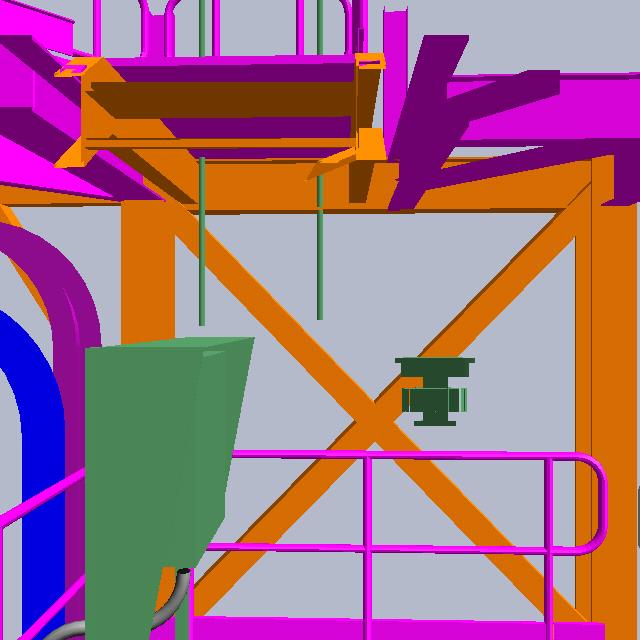Poste: (312, 177, 328, 327)
Soporte: (356, 1, 412, 159)
